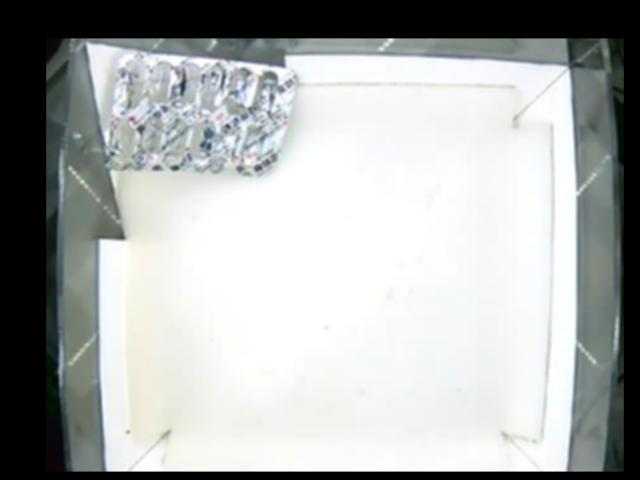Medicine: (103, 51, 298, 181)
